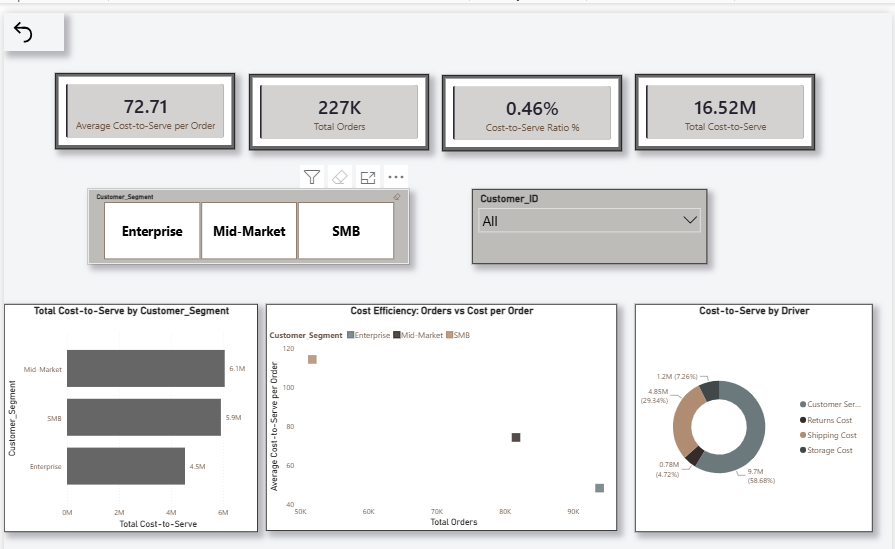

The dashboard page shown, as its layout file describes it:
{"tool":"powerbi","page":{"name":"Cost-to-Serve","canvas":[1480,920],"ordinal":2},"visuals":[{"type":"cardVisual","fields":{"Data":["rpt vw_Cost_to_Serve.Cost-to-Serve Ratio %"]},"box":[730.2,103.2,300,126.9],"z":0},{"type":"cardVisual","fields":{"Data":["rpt vw_Cost_to_Serve.Total Orders"]},"box":[408.5,101.8,300,126.7],"z":1000},{"type":"cardVisual","fields":{"Data":["rpt vw_Cost_to_Serve.Total Cost-to-Serve"]},"box":[1051.9,101.8,300,126.7],"z":2000},{"type":"cardVisual","fields":{"Data":["rpt vw_Cost_to_Serve.Average Cost-to-Serve per Order"]},"box":[85.3,100.3,300,126.7],"z":3000},{"type":"donutChart","title":"Cost-to-Serve by Driver","fields":{"Y":["rpt vw_Cost_to_Serve.Customer Service Cost","rpt vw_Cost_to_Serve.Returns Cost","rpt vw_Cost_to_Serve.Shipping Cost","rpt vw_Cost_to_Serve.Storage Cost"]},"box":[1051.7,485,396.2,379.9],"z":4000},{"type":"barChart","fields":{"Category":["rpt vw_Customer_Profitability.Customer_Segment"],"Y":["rpt vw_Cost_to_Serve.Total Cost-to-Serve"]},"box":[0,485,423.3,380],"z":5000},{"type":"scatterChart","title":"Cost Efficiency: Orders vs Cost per Order","fields":{"X":["rpt vw_Cost_to_Serve.Total Orders"],"Y":["rpt vw_Cost_to_Serve.Average Cost-to-Serve per Order"],"Series":["rpt vw_Customer_Profitability.Customer_Segment"]},"box":[436.7,485,585,378.3],"z":6000},{"type":"actionButton","box":[0,0,100.3,64.3],"z":7000},{"type":"slicer","fields":{"Values":["rpt vw_Customer_Profitability.Customer_Segment"]},"box":[140,293.3,535,125],"z":8000},{"type":"slicer","fields":{"Values":["rpt vw_Customer_Profitability.Customer_ID"]},"box":[780,293.3,391.7,125],"z":9000}]}

Visuals, with their boxes in screenshot pixels (x1, y1, x2, y2):
cardVisual - rpt vw_Cost_to_Serve.Cost-to-Serve Ratio %: crop(445, 75, 621, 150)
cardVisual - rpt vw_Cost_to_Serve.Total Orders: crop(255, 74, 432, 149)
cardVisual - rpt vw_Cost_to_Serve.Total Cost-to-Serve: crop(634, 74, 811, 149)
cardVisual - rpt vw_Cost_to_Serve.Average Cost-to-Serve per Order: crop(64, 73, 241, 148)
"Cost-to-Serve by Driver" donutChart: crop(634, 300, 868, 524)
barChart - rpt vw_Customer_Profitability.Customer_Segment x rpt vw_Cost_to_Serve.Total Cost-to-Serve: crop(14, 300, 264, 524)
"Cost Efficiency: Orders vs Cost per Order" scatterChart: crop(271, 300, 616, 523)
actionButton: crop(14, 14, 73, 52)
slicer - rpt vw_Customer_Profitability.Customer_Segment: crop(97, 187, 412, 261)
slicer - rpt vw_Customer_Profitability.Customer_ID: crop(474, 187, 705, 261)
